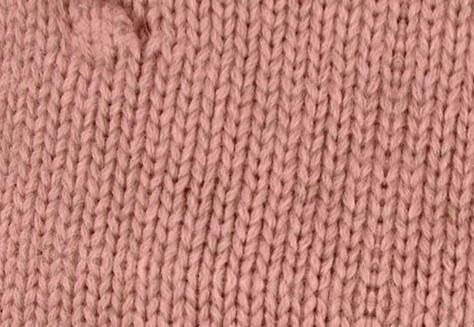knot: (55, 0, 149, 67)
